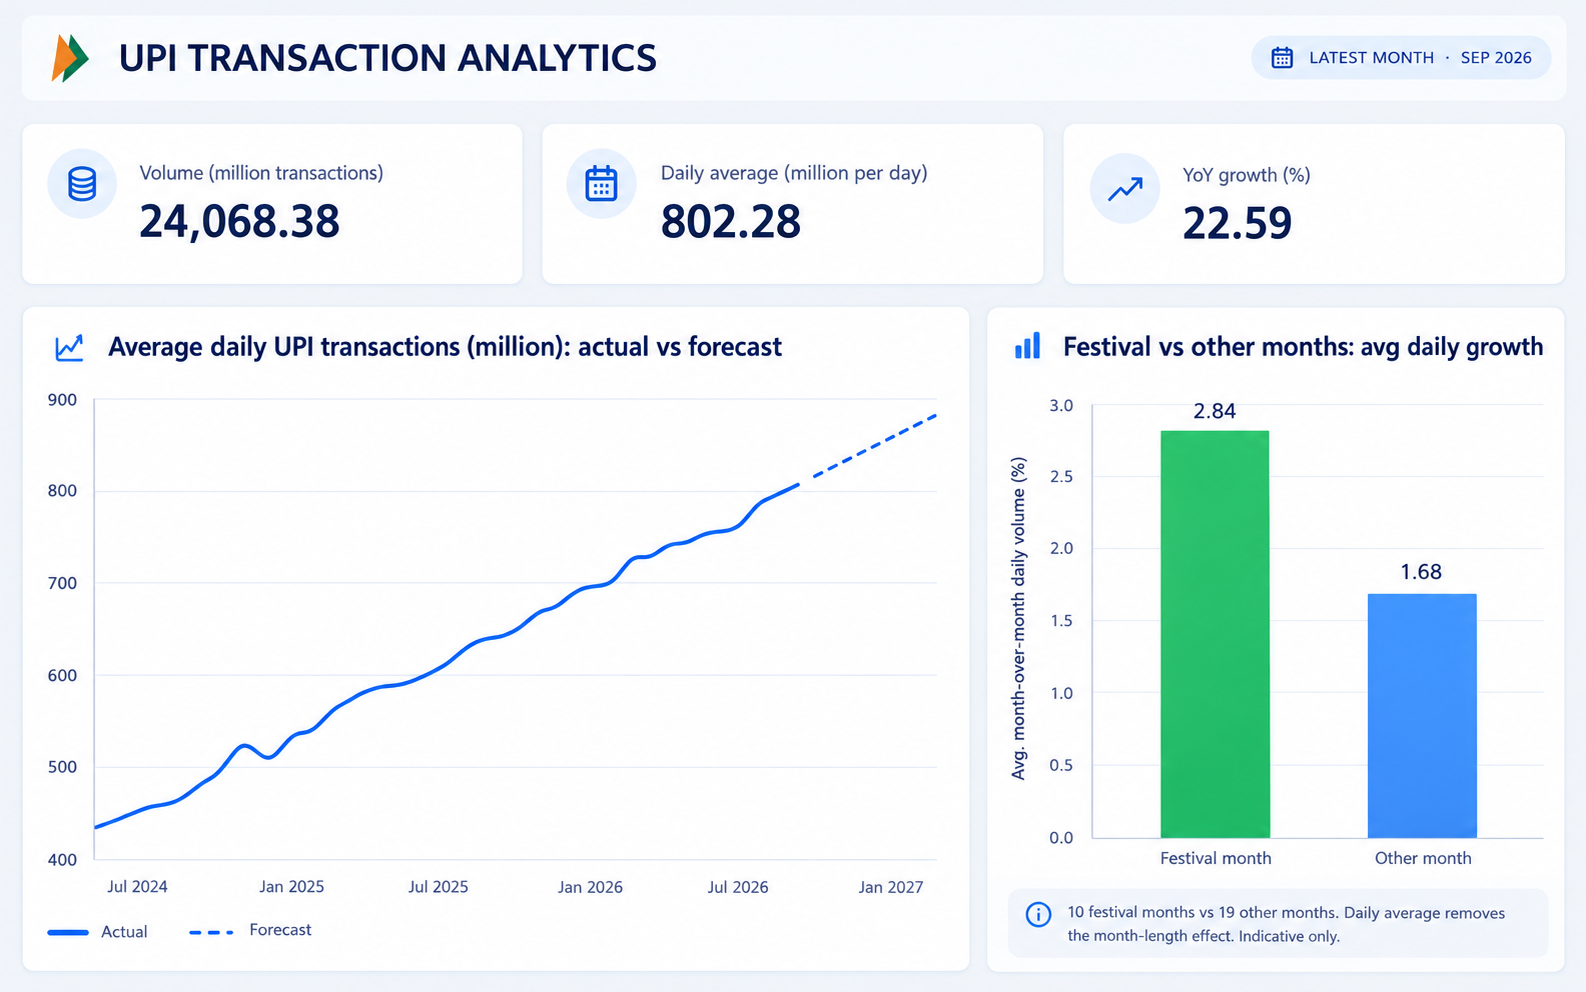

What the dashboard file says about the page in this screenshot:
{"tool":"powerbi","page":{"name":"Page 1","canvas":[1920,1080],"ordinal":0},"visuals":[{"type":"cardVisual","title":"   Latest month (September 2026)","fields":{"Data":["dashboard_data.Latest Volume","dashboard_data.Latest Daily Avg","dashboard_data.Latest YoY %"]},"box":[10,17.5,1892.5,272.5],"z":0},{"type":"lineChart","title":"Average daily UPI transactions (million): actual vs forecast","fields":{"Category":["dashboard_data.month_start.Variation.Date Hierarchy.Year","dashboard_data.month_start.Variation.Date Hierarchy.Quarter","dashboard_data.month_start.Variation.Date Hierarchy.Month","dashboard_data.month_start.Variation.Date Hierarchy.Day"],"Series":["dashboard_data.type"],"Y":["Sum(dashboard_data.daily_avg_mn)"]},"box":[10,312.5,1075,750],"z":1000},{"type":"clusteredColumnChart","title":"Festival vs other months: avg daily growth","fields":{"Category":["dashboard_data.festival_label"],"Y":["Avg(dashboard_data.daily_mom_pct)"]},"box":[1112.5,312.5,790,750],"z":2000},{"type":"textbox","box":[1185,1040,717.5,22.5],"z":3000}]}

Visuals, with their boxes on the page's 1920x1080 design canvas (x1, y1, x2, y2). These are canvas units, not pixel positions in the 1586x992 screenshot, which may show the page scaled, cropped or inside an application window:
"   Latest month (September 2026)" cardVisual: 10, 18, 1902, 290
"Average daily UPI transactions (million): actual vs forecast" lineChart: 10, 312, 1085, 1062
"Festival vs other months: avg daily growth" clusteredColumnChart: 1112, 312, 1902, 1062
textbox: 1185, 1040, 1902, 1062
